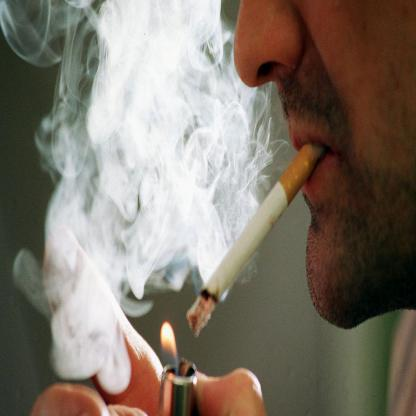cigarette: (187, 139, 323, 337)
smoke: (48, 0, 237, 364)
